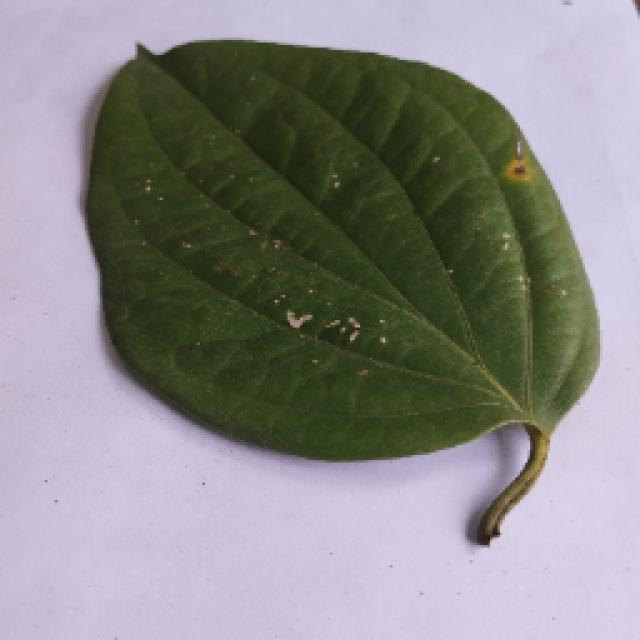pollu-disease: (83, 37, 595, 535)
